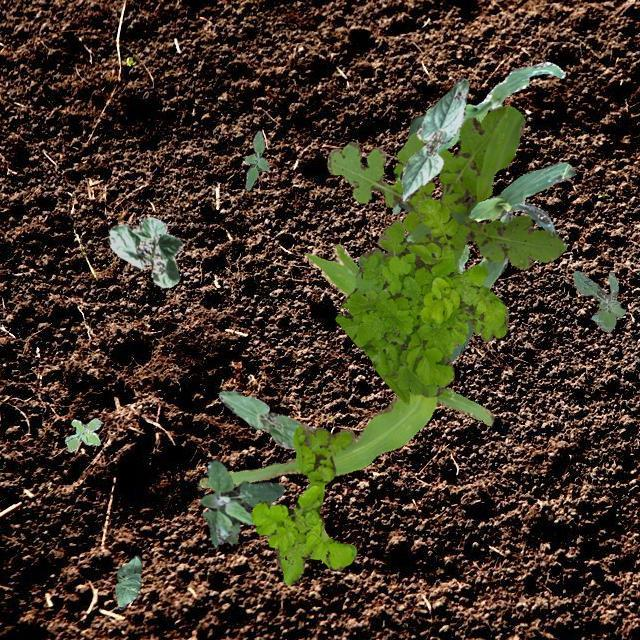crop: (198, 244, 494, 486), (392, 60, 564, 214), (450, 212, 512, 362), (398, 76, 468, 200), (468, 162, 574, 234), (218, 390, 314, 448), (106, 216, 182, 286), (397, 114, 423, 210), (114, 554, 140, 608)
weed: (326, 106, 564, 274), (334, 198, 508, 404), (250, 424, 356, 584), (198, 458, 284, 546), (572, 270, 624, 330), (244, 130, 268, 190), (64, 418, 100, 450), (456, 244, 468, 272), (404, 232, 414, 242)
